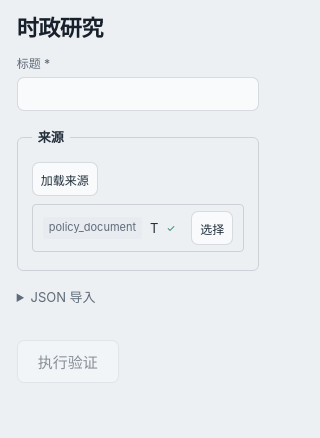
lifecycle › not readyForApproval shows error
Click the button "选择" at (212, 228), box 191,211 -> 233,245
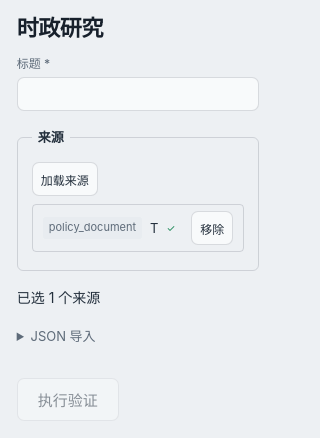
Type "T" into the field with id "ca-title" at (138, 94), box 17,77 -> 259,111
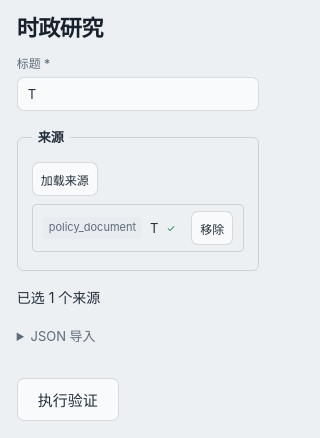
Click the button "执行验证" at (68, 400), box 17,378 -> 119,421
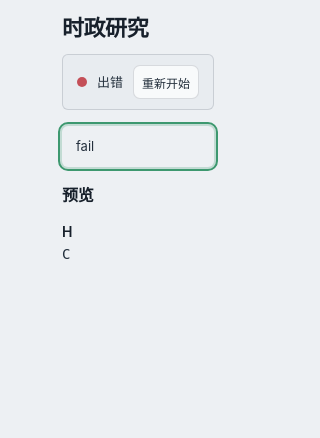
Expected: the text "fail" is shown, 62,126 -> 214,167
